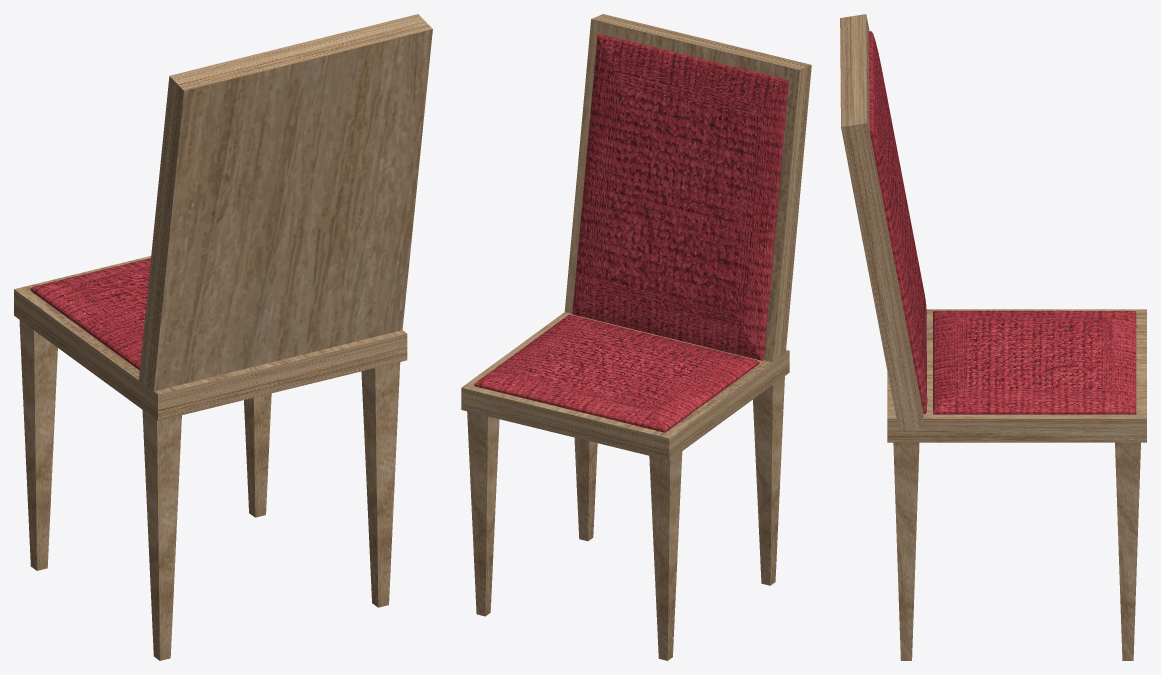
File: Chair-07-01-2024.fbx
3 renders of one model, left to right at view 1: azimuth 30°, elevation 25°; view 2: azimuth 150°, elevation 25°; view 3: azimuth 270°, elevation 25°, orthographic. The views are drawn at different scales.
Visible parts, largest first — view 1: Cube_005, Cube_004, Cube, Cube_006, Cube_001, Cube_002, Cube_003; view 2: Cube_007, Cube_006, Cube_005, Cube_004, Cube_002, Cube_003, Cube, Cube_001; view 3: Cube_006, Cube_005, Cube_004, Cube_007, Cube_001, Cube_003.
Part boxes in pixels (x1,y1,x2,y2): Cube_005: (138,14,432,391); Cube_004: (14,256,407,420); Cube: (142,410,181,660); Cube_006: (30,258,150,370); Cube_001: (361,362,400,607); Cube_002: (19,320,57,570); Cube_003: (244,393,271,517); Cube_007: (572,33,788,360); Cube_006: (474,314,759,432); Cube_005: (564,14,811,362); Cube_004: (461,312,789,460); Cube_002: (649,451,682,660); Cube_003: (467,411,499,616); Cube: (753,376,784,585); Cube_001: (574,437,597,541); Cube_006: (933,311,1136,414); Cube_005: (840,14,924,431); Cube_004: (887,309,1146,442); Cube_007: (868,31,927,414); Cube_001: (893,442,919,660); Cube_003: (1115,442,1140,660).
Size of the model in its own units: 2.09 by 4.8 by 2.46.
Materials: 2 (2 with a texture image).
